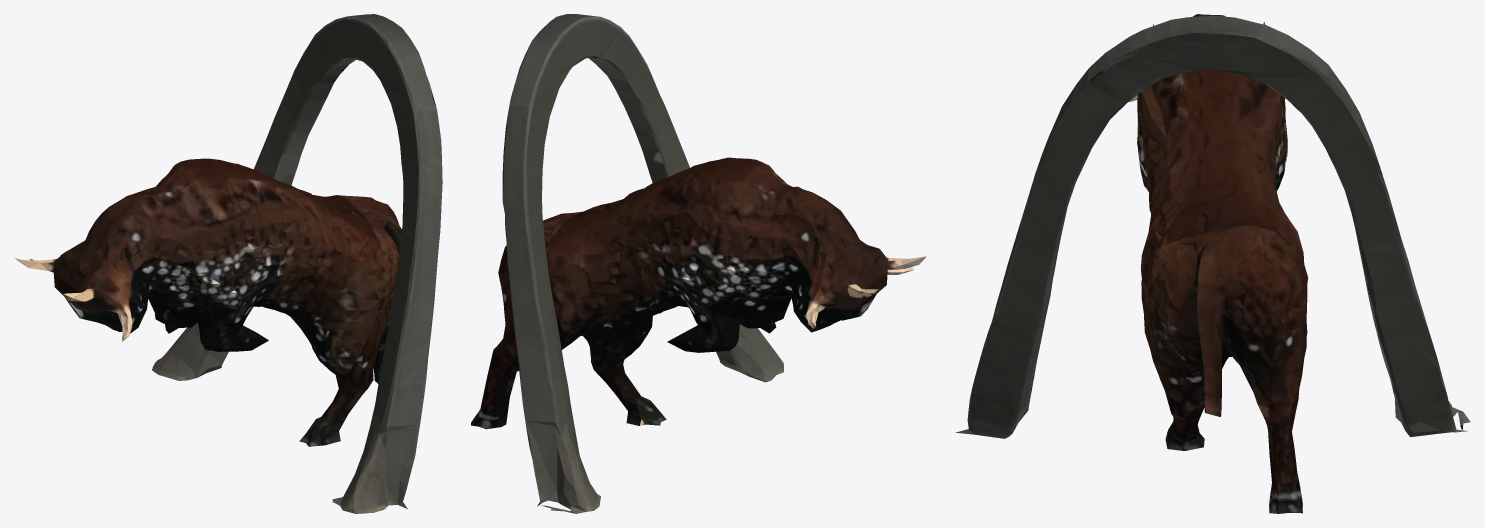
The model's file is toro_acero.glb.
The picture shows the model from 3 angles, left to right: view 1: azimuth 30°, elevation 25°; view 2: azimuth 150°, elevation 25°; view 3: azimuth 270°, elevation 25°; orthographic projection. The views are drawn at different scales.
Parts seen in each view (by area): view 1: tmpebipp1tx.ply; view 2: tmpebipp1tx.ply; view 3: tmpebipp1tx.ply.
Part boxes in pixels (x1,y1,x2,y2): tmpebipp1tx.ply: (15, 14, 442, 513); tmpebipp1tx.ply: (471, 14, 926, 513); tmpebipp1tx.ply: (956, 14, 1470, 513).
Bounding box in the file's own units: 2 × 1.86 × 1.88.
1 material, 1 textured.
